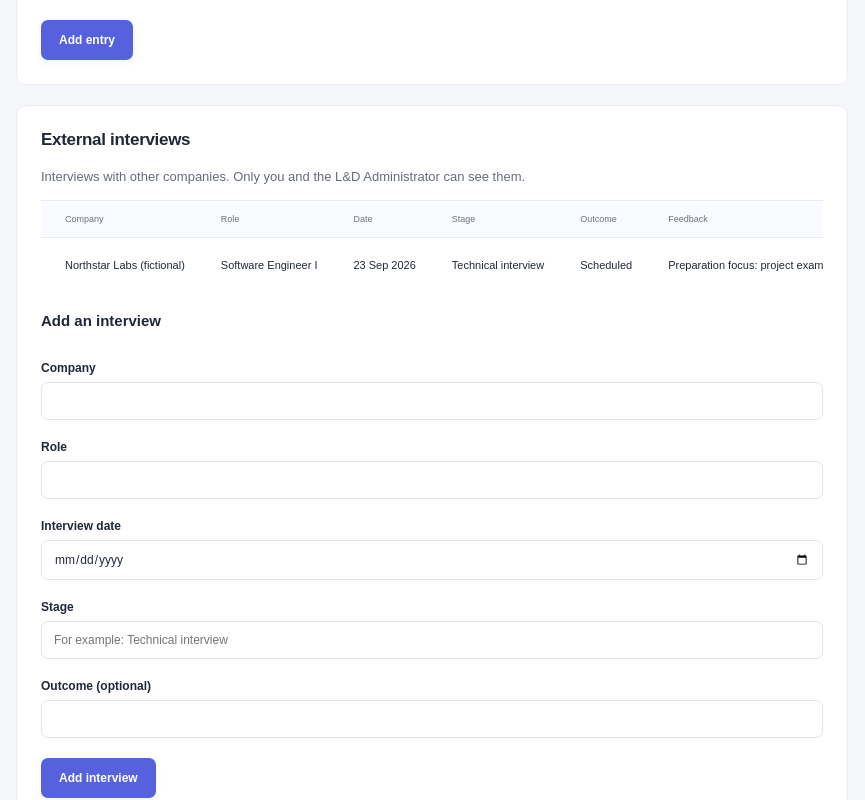
Test case: StaffAttendance external interviews › submits the form to the add action and shows its message
(page scrolled)
Type "Orbit Analytics" into the field labelled "Company" at (432, 401), box x1=41 y1=382 x2=823 y2=420
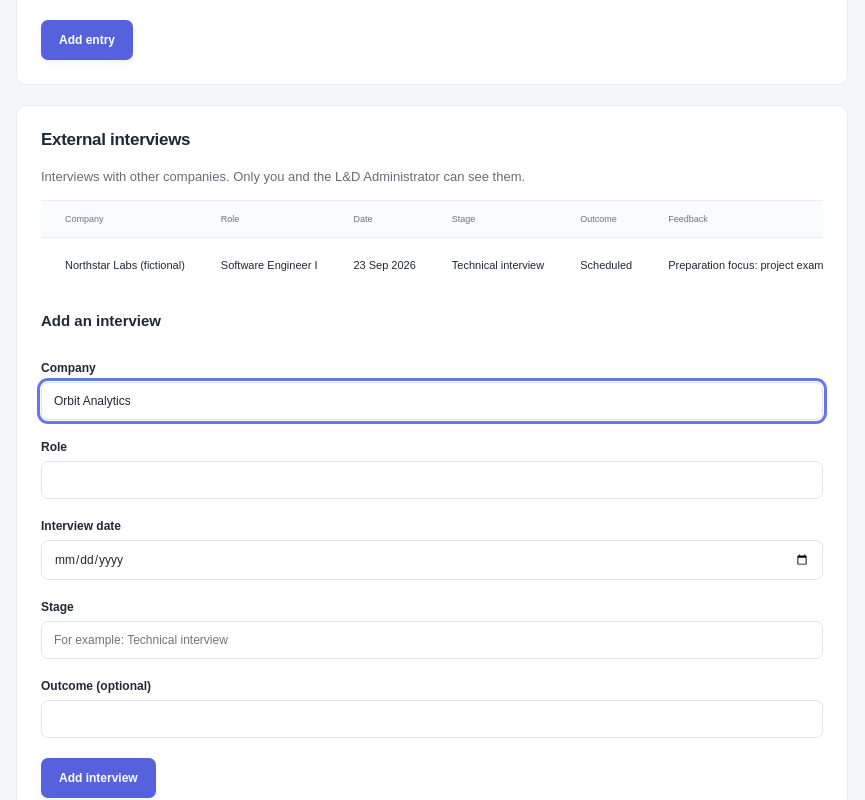
Type "AI Engineer" into the field labelled "Role" at (432, 480), box x1=41 y1=461 x2=823 y2=499
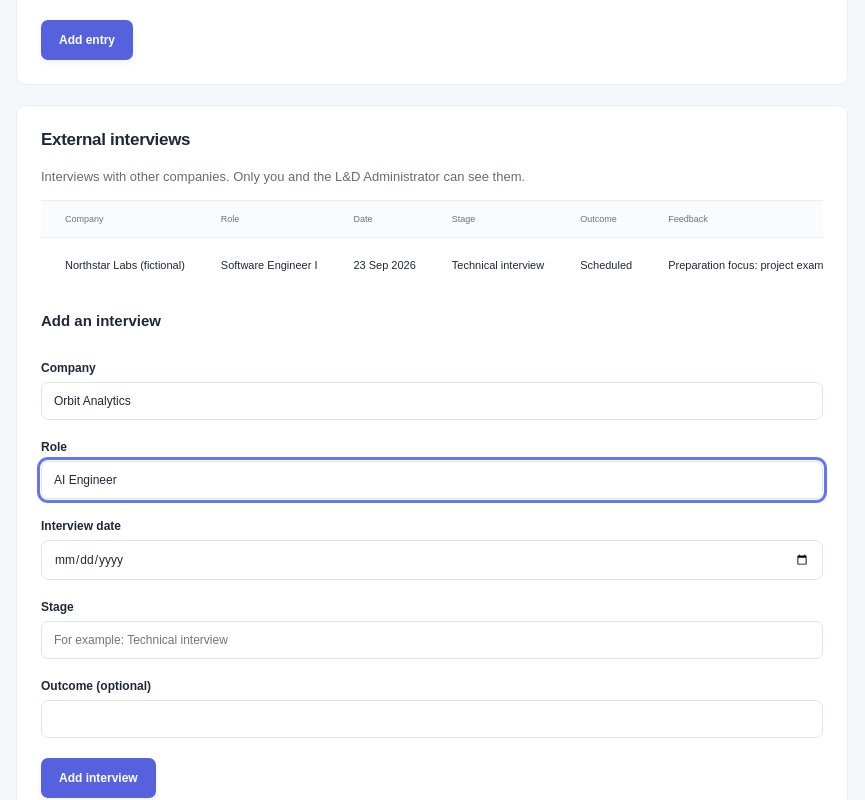
Type "2026-10-20" into the date field labelled "Interview date" at (432, 560), box x1=41 y1=540 x2=823 y2=580
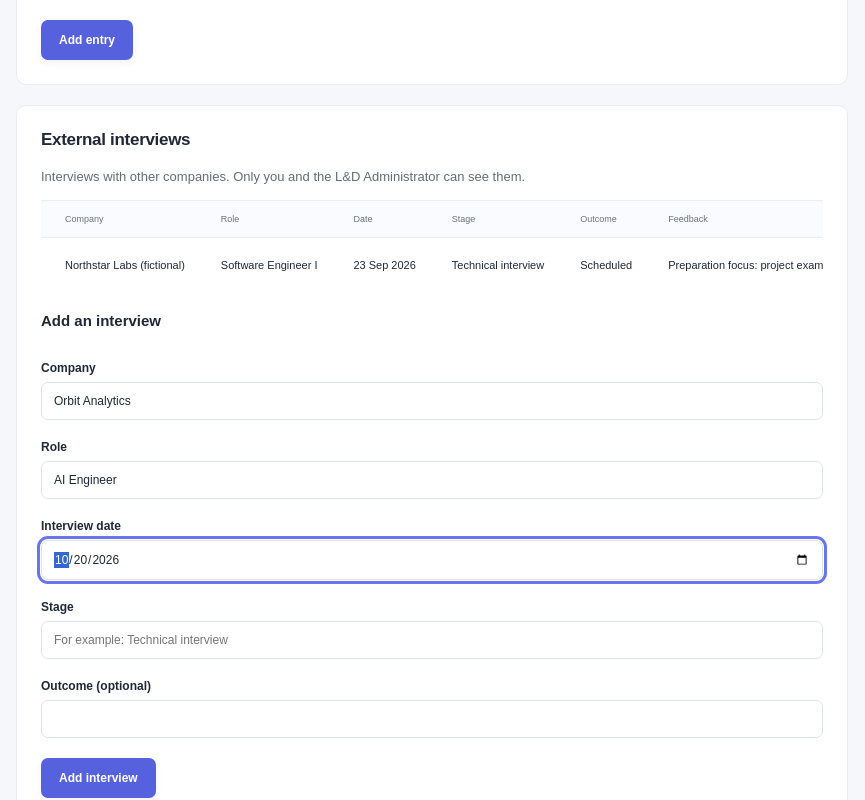
Type "Recruiter screen" into the field labelled "Stage" at (432, 640), box x1=41 y1=621 x2=823 y2=659
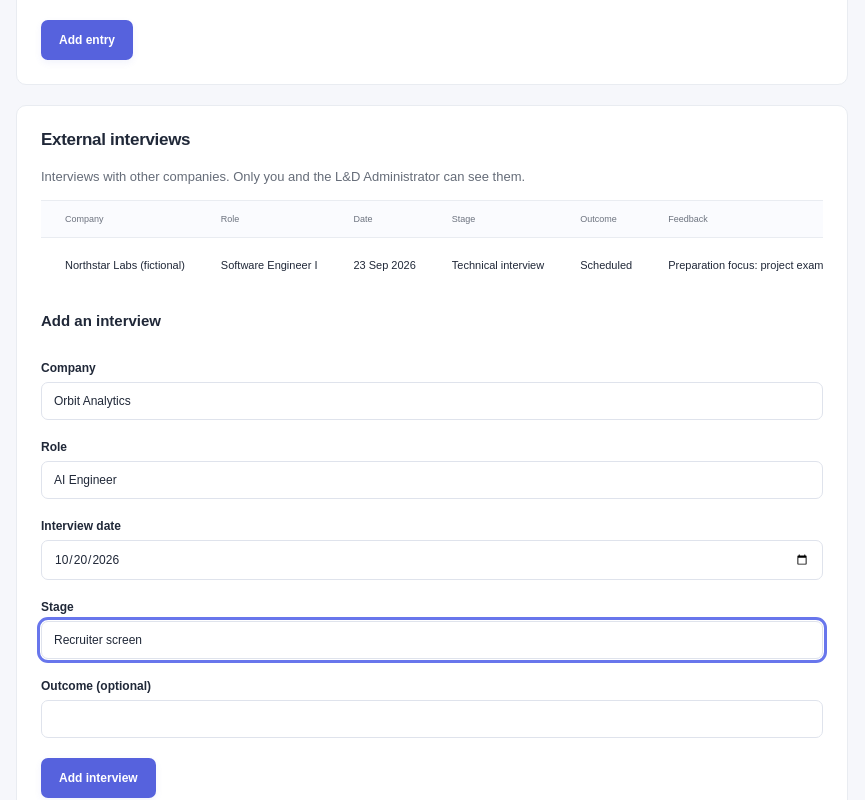
Click the button "Add interview" at (98, 778), box x1=41 y1=758 x2=156 y2=798
(page scrolled)
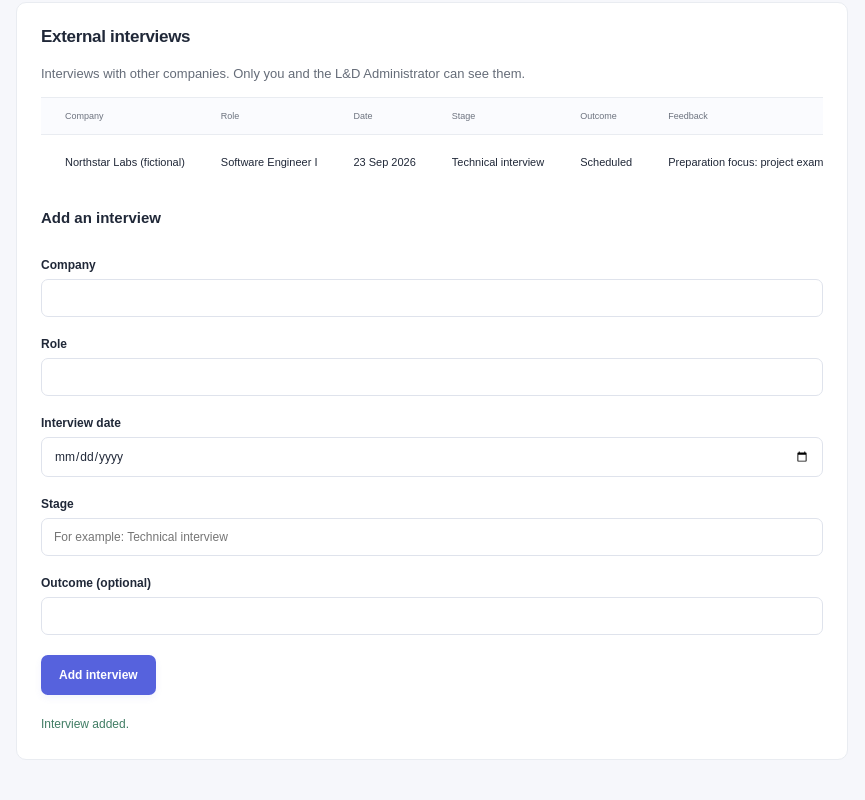
Now the text "Interview added." is shown, box x1=41 y1=717 x2=129 y2=731
